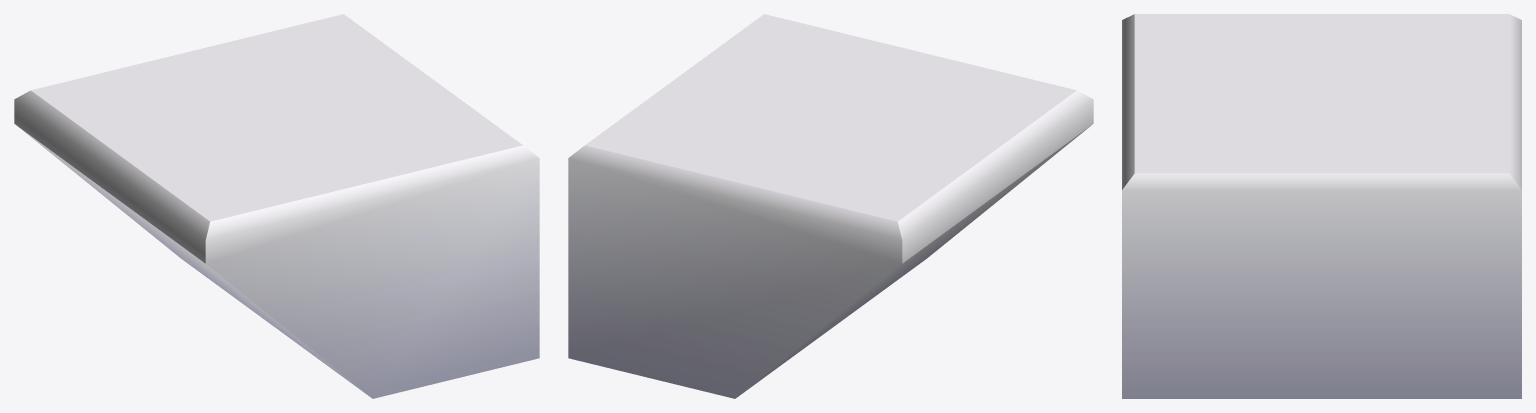
The model's file is kenney-brick-none-hq-brick-slope-inverted-2-x-2.glb.
3 views of the same model, side by side, from view 1: azimuth 30°, elevation 25°; view 2: azimuth 150°, elevation 25°; view 3: azimuth 270°, elevation 25° (orthographic). The views are drawn at different scales.
Parts seen in each view (by area): view 1: none-hq-brick-slope-inverted-2x2; view 2: none-hq-brick-slope-inverted-2x2; view 3: none-hq-brick-slope-inverted-2x2.
Boxes of the visible parts, x1=… form: none-hq-brick-slope-inverted-2x2: x1=14, y1=14, x2=539, y2=398; none-hq-brick-slope-inverted-2x2: x1=568, y1=14, x2=1093, y2=398; none-hq-brick-slope-inverted-2x2: x1=1122, y1=14, x2=1521, y2=398.
Bounding box in the file's own units: 0.159 × 0.096 × 0.158.
1 material, 1 textured.
